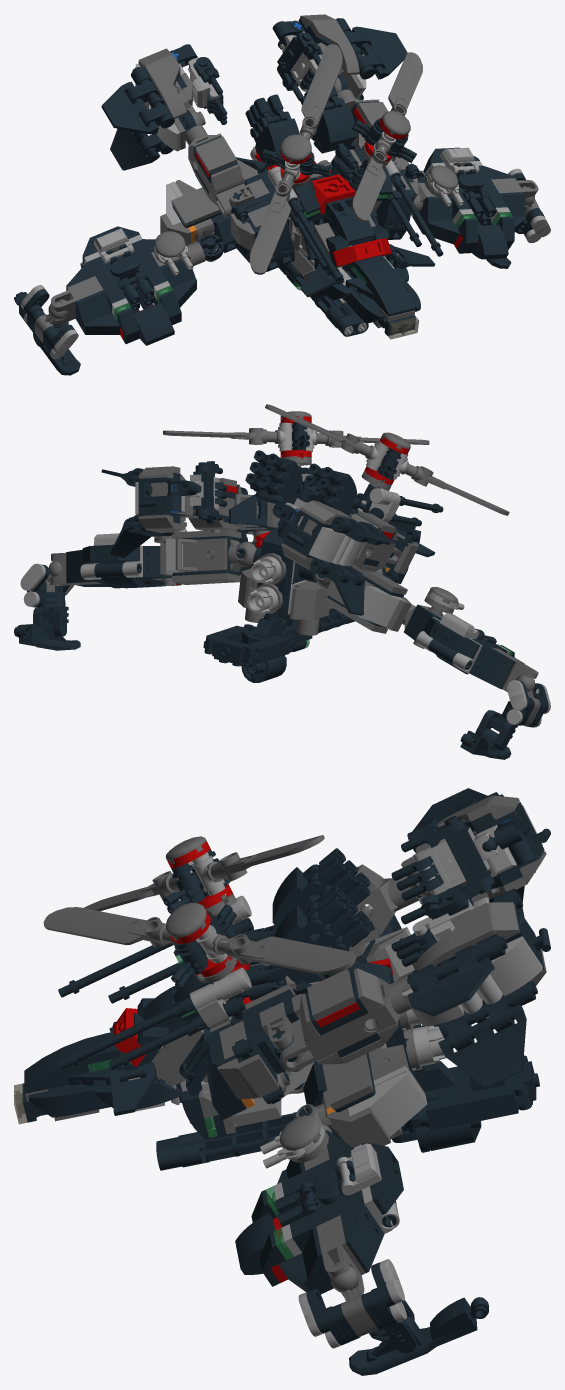
The model's file is rt-7139-rotor-rover.dae.
3 views of the same model, one above another, from view 1: azimuth 30°, elevation 25°; view 2: azimuth 150°, elevation 25°; view 3: azimuth 270°, elevation 25° (orthographic). The views are drawn at different scales.
Size of the model in its own units: 747 by 475 by 394.
